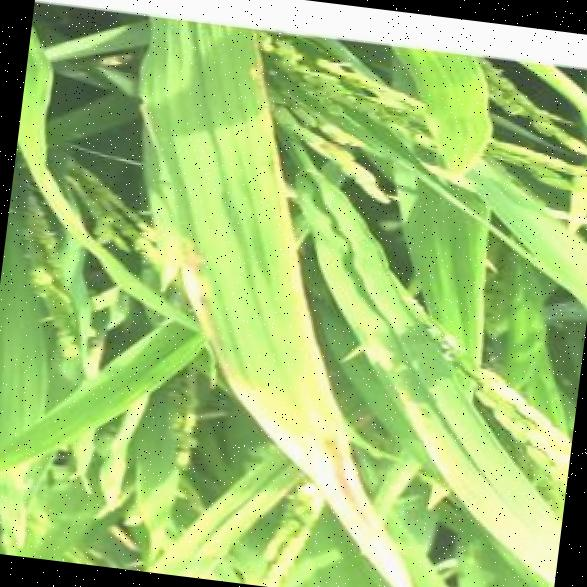Bacteria_Leaf_Blight: (158, 140, 320, 444)
